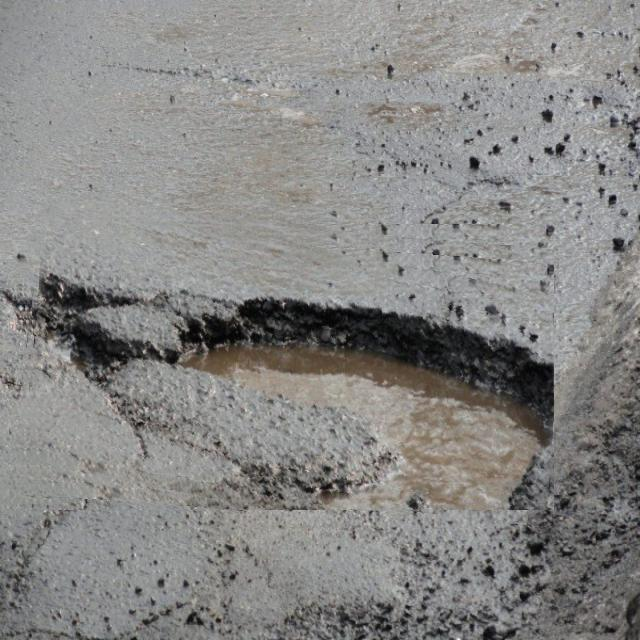Pothole: (20, 209, 554, 510)
